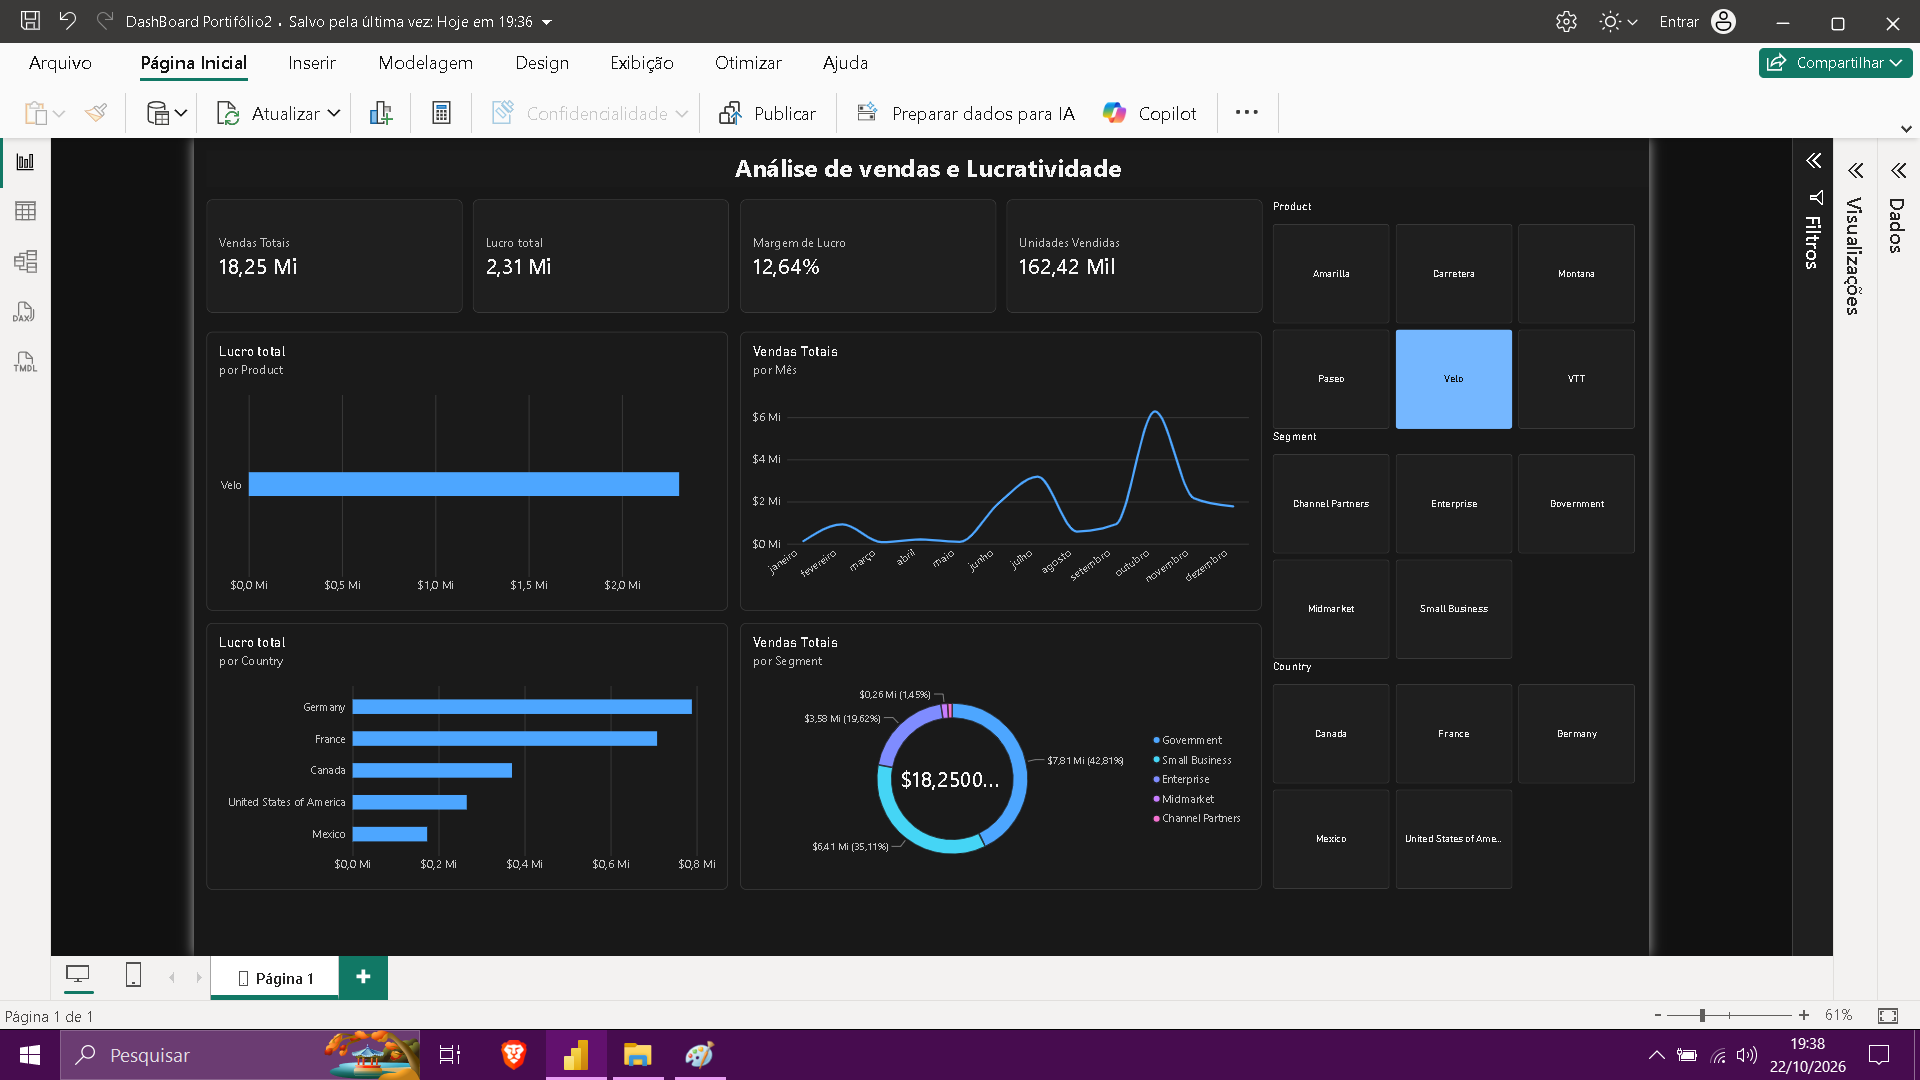

This screenshot's page, from the dashboard's own definition file:
{"tool":"powerbi","page":{"name":"Página 1","canvas":[1920,1080],"ordinal":0},"visuals":[{"type":"textbox","box":[16,16,1904,48],"z":0},{"type":"cardVisual","fields":{"Data":["financials.Vendas Totais"]},"box":[16,80,338.5,150.3],"z":1000},{"type":"cardVisual","fields":{"Data":["financials.Lucro total"]},"box":[368,80,338.5,150.3],"z":2000},{"type":"cardVisual","fields":{"Data":["financials.Margem de Lucro"]},"box":[720,80,338.5,150.3],"z":3000},{"type":"cardVisual","fields":{"Data":["financials.Unidades Vendidas"]},"box":[1072,80,338.5,150.3],"z":4000},{"type":"lineChart","fields":{"Category":["financials.Date.Variação.Hierarquia de datas.Ano","financials.Date.Variação.Hierarquia de datas.Trimestre","financials.Date.Variação.Hierarquia de datas.Mês","financials.Date.Variação.Hierarquia de datas.Dia"],"Y":["financials.Vendas Totais"]},"box":[720,256,688,368],"z":5000},{"type":"clusteredBarChart","fields":{"Category":["financials.Product"],"Y":["financials.Lucro total"]},"box":[16,256,688,368],"z":6000},{"type":"donutChart","fields":{"Category":["financials.Segment"],"Y":["financials.Vendas Totais"]},"box":[720,640,688,352],"z":7000},{"type":"clusteredBarChart","fields":{"Category":["financials.Country"],"Y":["financials.Lucro total"]},"box":[16,640,688,352],"z":8000},{"type":"advancedSlicerVisual","fields":{"Values":["financials.Country"]},"box":[1424,688,480,304],"z":9000},{"type":"advancedSlicerVisual","fields":{"Values":["financials.Segment"]},"box":[1424,384,480,304],"z":10000},{"type":"advancedSlicerVisual","fields":{"Values":["financials.Product"]},"box":[1424,80,480,304],"z":11000}]}

Visuals, with their boxes on the page's 1920x1080 design canvas (x1, y1, x2, y2). These are canvas units, not pixel positions in the 1920x1080 screenshot, which may show the page scaled, cropped or inside an application window:
textbox: bbox(16, 16, 1920, 64)
cardVisual - financials.Vendas Totais: bbox(16, 80, 354, 230)
cardVisual - financials.Lucro total: bbox(368, 80, 706, 230)
cardVisual - financials.Margem de Lucro: bbox(720, 80, 1058, 230)
cardVisual - financials.Unidades Vendidas: bbox(1072, 80, 1410, 230)
lineChart - financials.Date.Variação.Hierarquia de datas.Ano x financials.Date.Variação.Hierarquia de datas.Trimestre: bbox(720, 256, 1408, 624)
clusteredBarChart - financials.Product x financials.Lucro total: bbox(16, 256, 704, 624)
donutChart - financials.Segment x financials.Vendas Totais: bbox(720, 640, 1408, 992)
clusteredBarChart - financials.Country x financials.Lucro total: bbox(16, 640, 704, 992)
advancedSlicerVisual - financials.Country: bbox(1424, 688, 1904, 992)
advancedSlicerVisual - financials.Segment: bbox(1424, 384, 1904, 688)
advancedSlicerVisual - financials.Product: bbox(1424, 80, 1904, 384)
